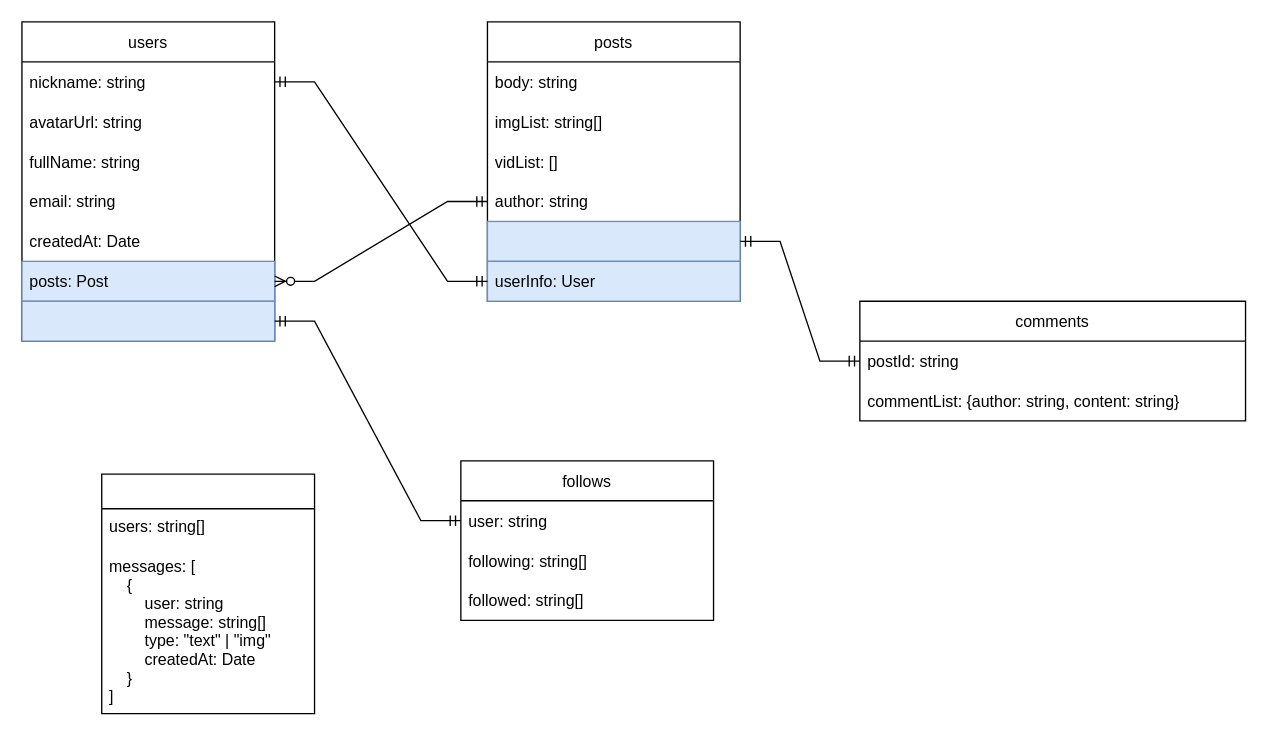
The diagram is 1267 pixels wide and 735 high, and some of its shapes have lost their labels. The shapes that lost their labels are listed below. From the top down, each one's box as (x1, y1, x2, y2) in pixels, then its label:
(486, 220, 740, 261): comments: Comment
(21, 300, 275, 341): follow: Follow
(100, 473, 315, 714): chats
